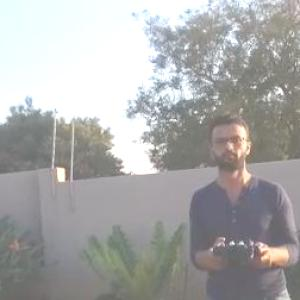follow: (183, 113, 300, 299)
